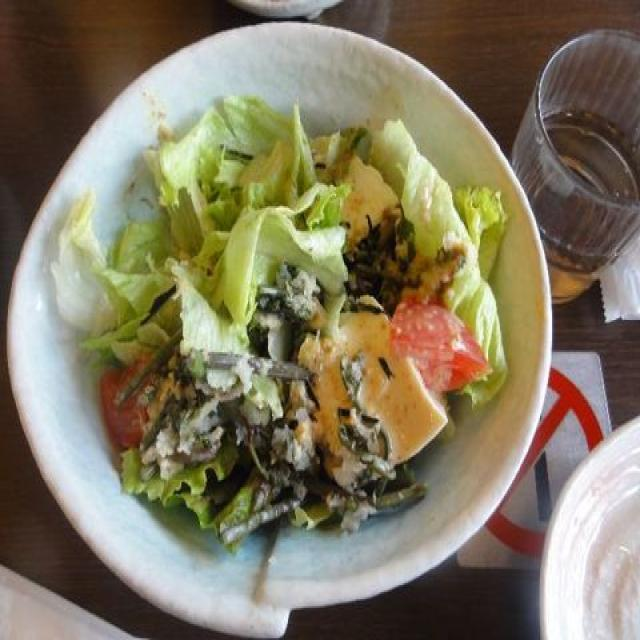Green Salad: (94, 120, 503, 530)
